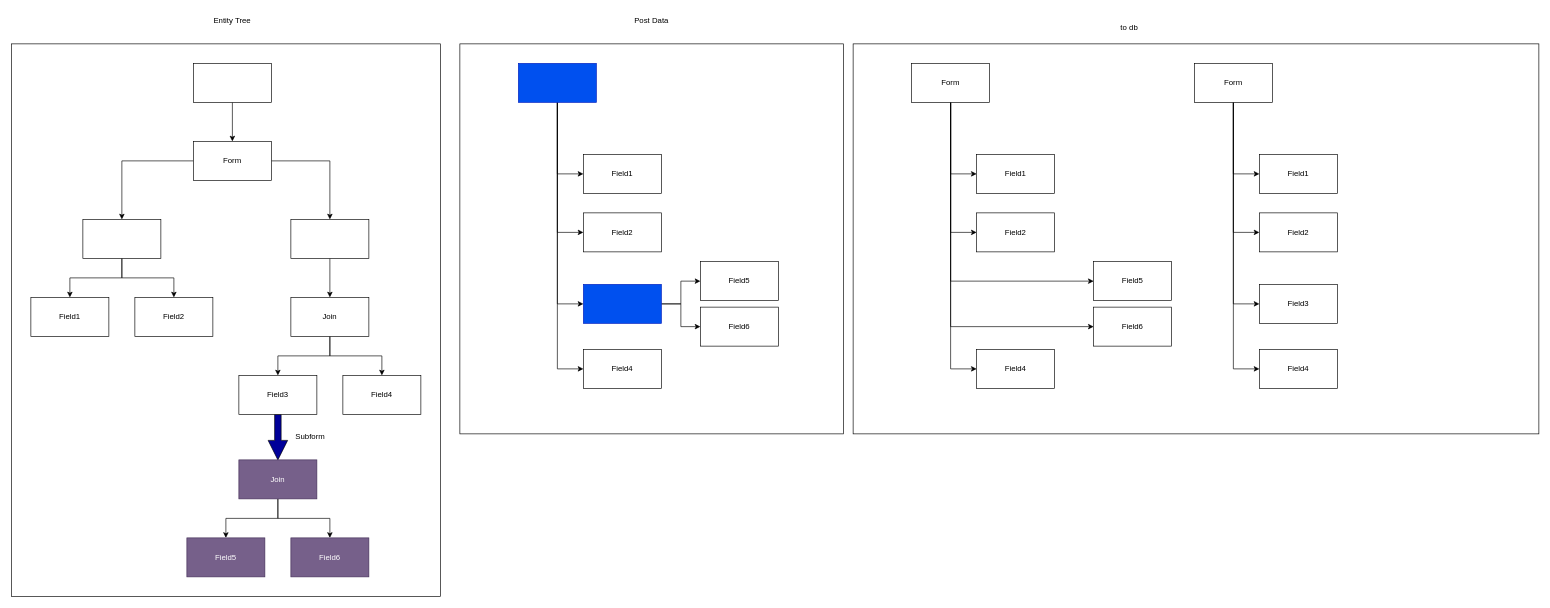
This 1550x608 diagram has some shape labels left out. Here are the shapes that lost their labels. From the top down, the centre of each, then its label:
At (232,82): "Forms".
At (557,82): "Form array".
At (121,238): "Fieldset".
At (329,238): "Div".
At (622,303): "Field3 subform array".
